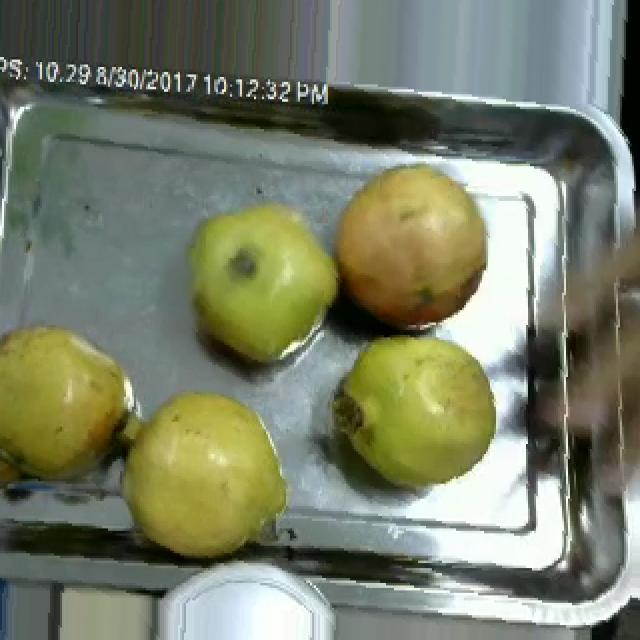fruit: (106, 372, 302, 571), (170, 183, 350, 380), (320, 146, 500, 342), (324, 325, 506, 504), (0, 305, 148, 494)
